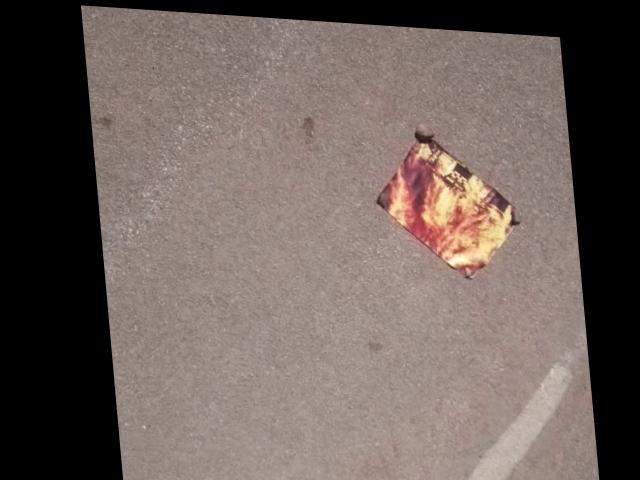fire-poster: (364, 124, 523, 277)
